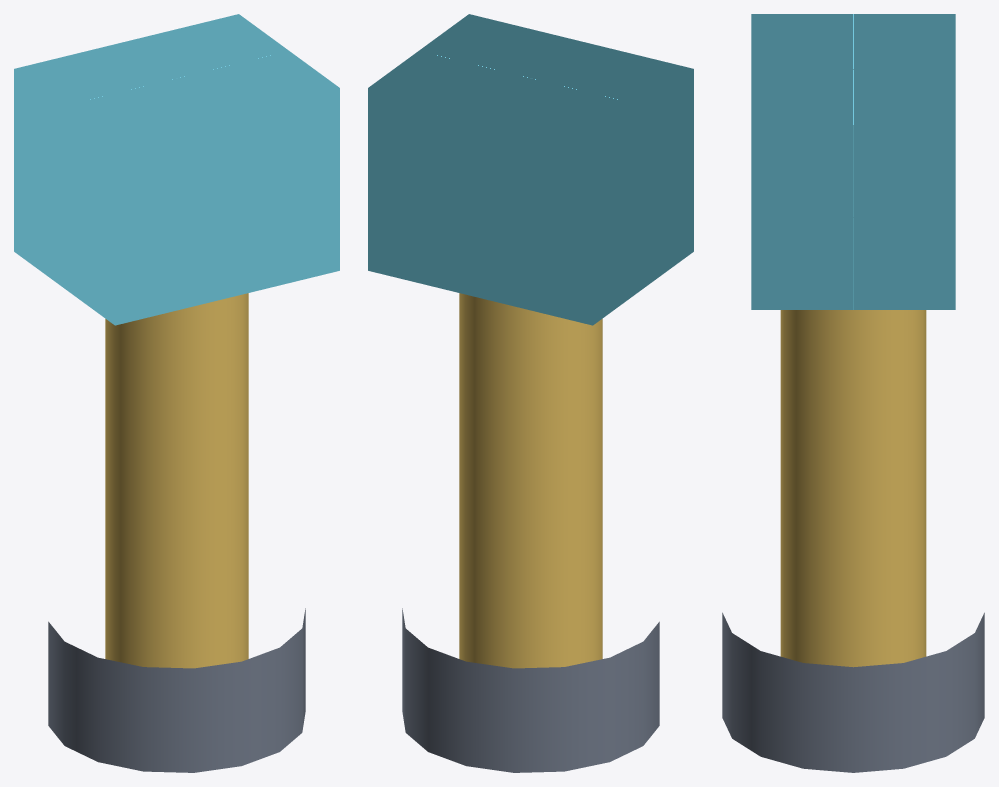
File: simple_machines.glb
3 renders of one model, left to right at view 1: azimuth 30°, elevation 25°; view 2: azimuth 150°, elevation 25°; view 3: azimuth 270°, elevation 25°, orthographic.
Parts seen in each view (by area): view 1: LoadWeight, ScrewThread, BaseNut; view 2: LoadWeight, ScrewThread, BaseNut; view 3: LoadWeight, ScrewThread, BaseNut.
Part boxes in pixels (x1,y1,x2,y2): LoadWeight: (14, 14, 339, 325); ScrewThread: (105, 293, 248, 668); BaseNut: (48, 608, 305, 772); LoadWeight: (368, 14, 693, 325); ScrewThread: (459, 293, 602, 668); BaseNut: (402, 608, 659, 772); LoadWeight: (751, 14, 955, 309); ScrewThread: (780, 310, 926, 667); BaseNut: (722, 612, 984, 772).
Size of what is drawn, in the model's own units: 0.9 by 2.45 by 0.9.
